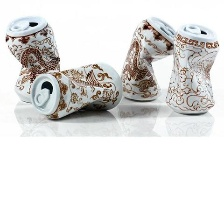can: (27, 59, 124, 122), (163, 21, 221, 116), (3, 15, 63, 103), (119, 10, 176, 102)
